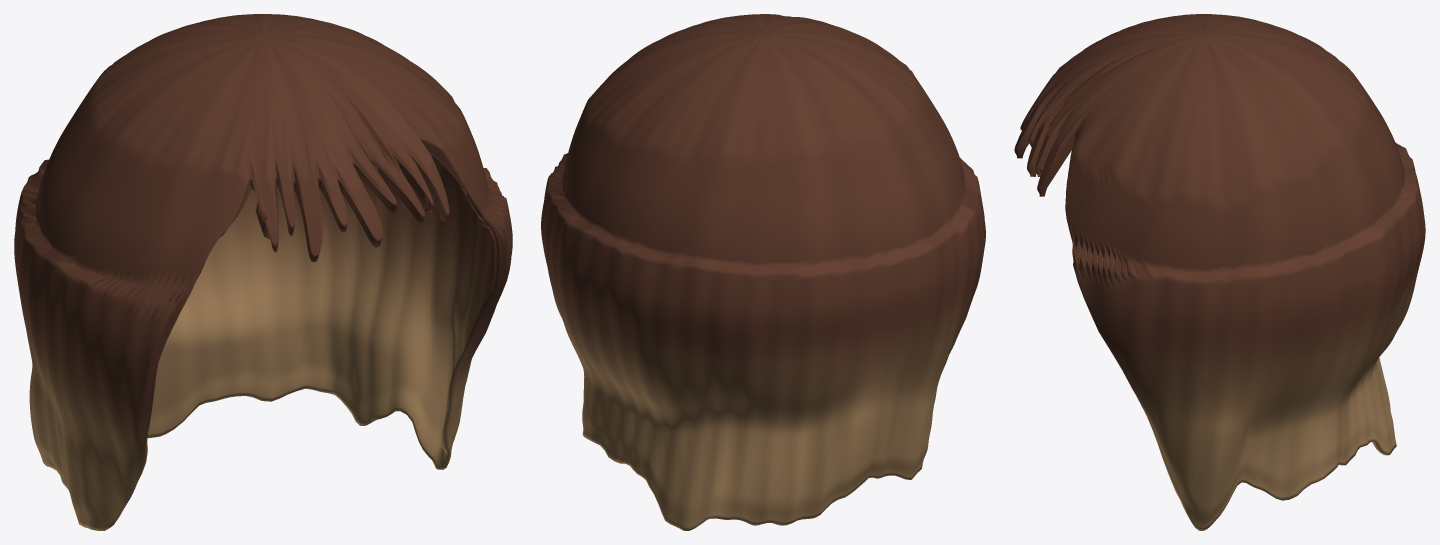
File: side-sweep-beanie-ombre.glb
3 views of the same model, side by side, from view 1: azimuth 30°, elevation 25°; view 2: azimuth 150°, elevation 25°; view 3: azimuth 270°, elevation 25° (orthographic). The views are drawn at different scales.
Visible parts, largest first — view 1: Hair / layered lob; view 2: Hair / layered lob; view 3: Hair / layered lob.
Part boxes in pixels (x1,y1,x2,y2): Hair / layered lob: (14, 14, 512, 530); Hair / layered lob: (541, 14, 985, 530); Hair / layered lob: (1014, 14, 1425, 530).
Size of the model in its own units: 0.8388 by 0.8786 by 0.7788.
